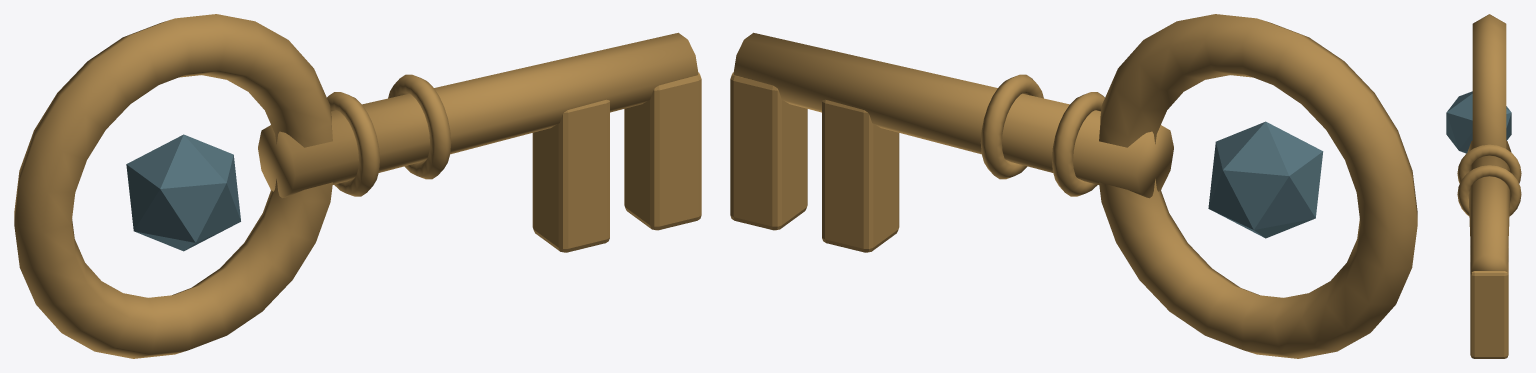
The model's file is RunicKey.glb.
3 renders of one model, left to right at view 1: azimuth 30°, elevation 25°; view 2: azimuth 150°, elevation 25°; view 3: azimuth 270°, elevation 25°, orthographic. The views are drawn at different scales.
Parts seen in each view (by area): view 1: RunicKey; view 2: RunicKey; view 3: RunicKey.
Boxes of the visible parts, x1,y1,x2,y2 form: RunicKey: (14,14,701,358); RunicKey: (730,14,1417,358); RunicKey: (1446,14,1521,358).
Size of the model in its own units: 0.663 by 0.316 by 0.1078.
